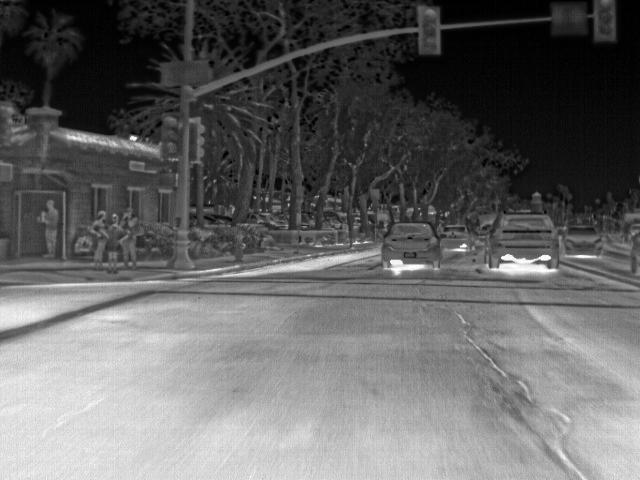car: (485, 208, 562, 269), (379, 221, 445, 270), (561, 225, 603, 256), (438, 222, 472, 248), (627, 230, 640, 274)
person: (120, 206, 142, 272), (39, 198, 61, 260), (89, 209, 110, 272), (106, 213, 123, 272)
